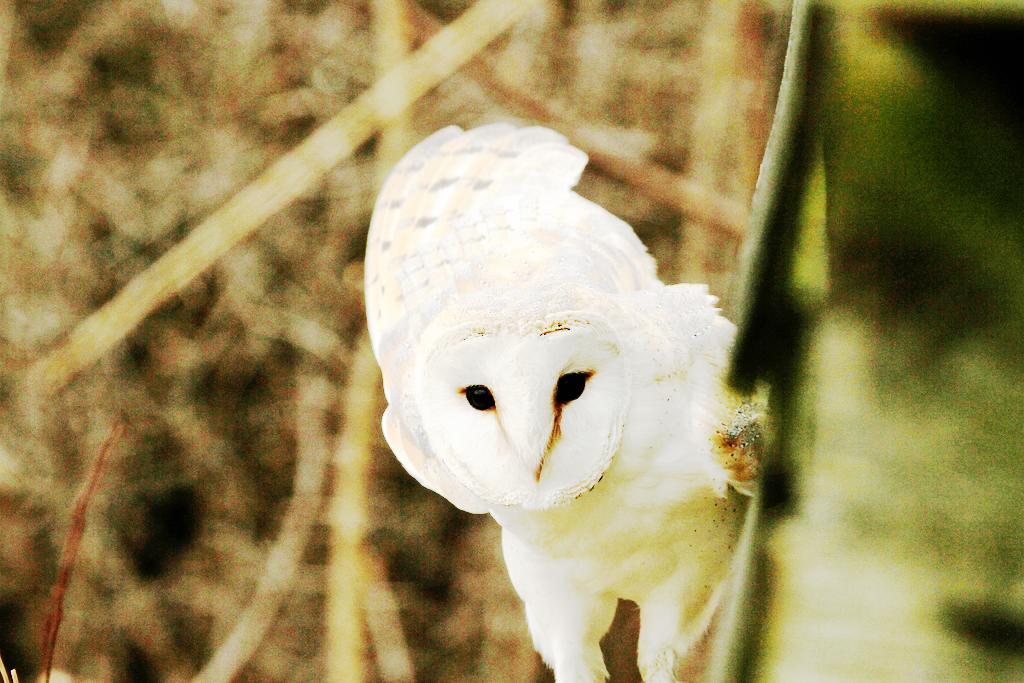Owl: (364, 121, 766, 682)
